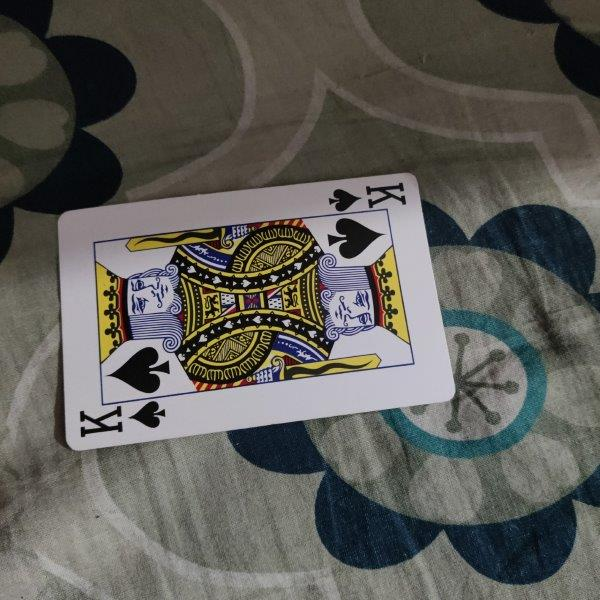King of Spades: (58, 172, 455, 452)
